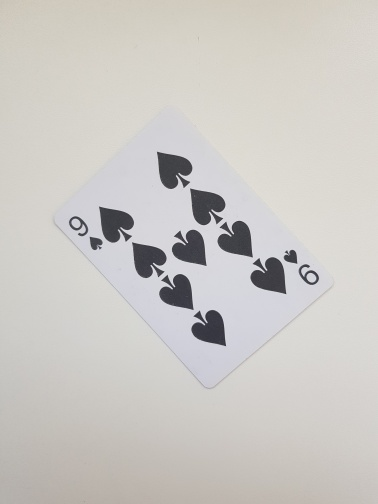nine: (51, 102, 336, 391)
